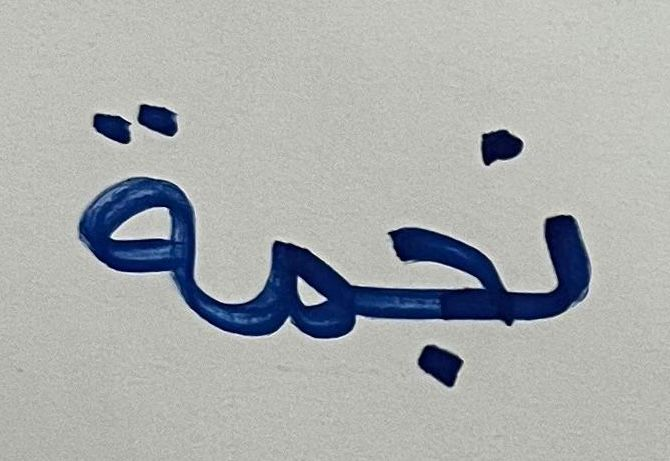jeem: (368, 181, 486, 401)
meem: (231, 192, 362, 381)
noon: (490, 115, 617, 376)
teh_marbota: (47, 73, 226, 348)
